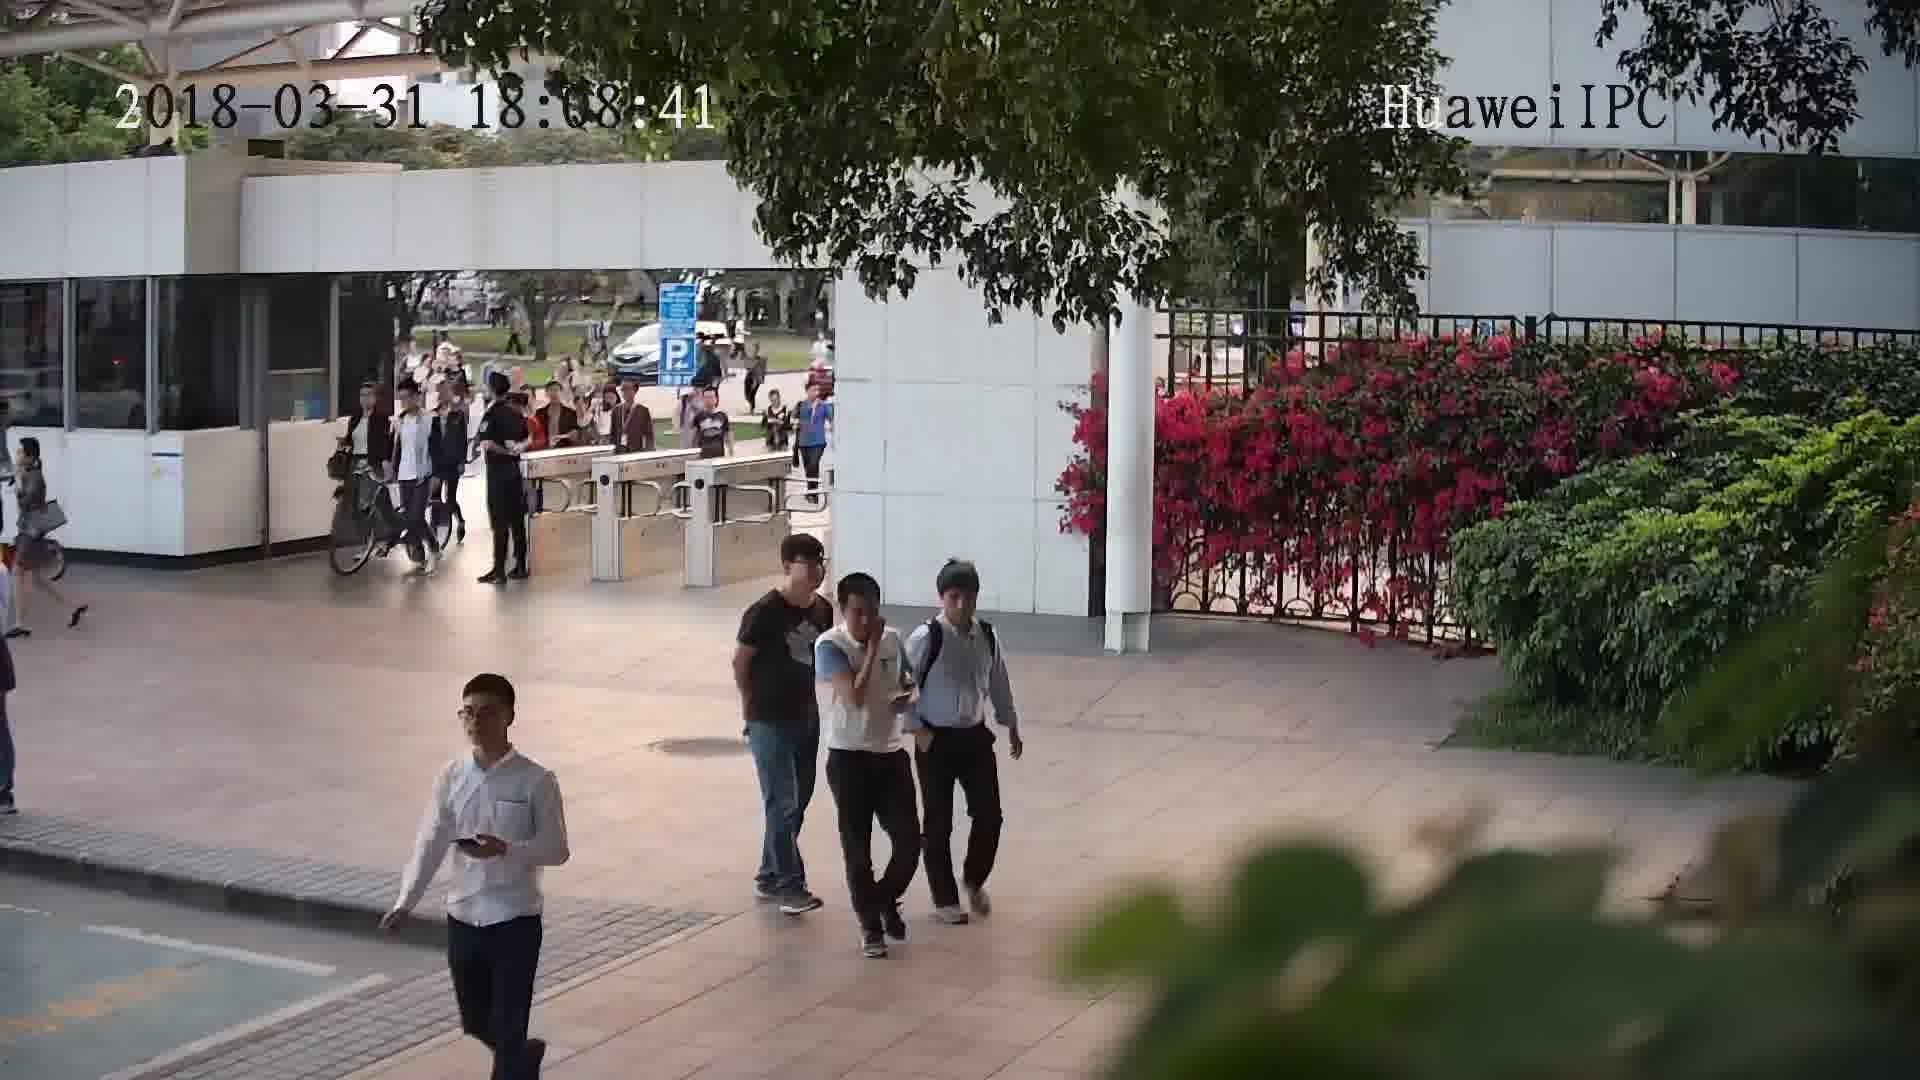face: (454, 688, 514, 748), (840, 594, 884, 644), (788, 552, 829, 599), (938, 585, 981, 628)
person: (436, 670, 554, 798), (743, 530, 835, 625), (815, 568, 907, 662), (911, 560, 1000, 652), (479, 369, 527, 429), (342, 377, 391, 433), (426, 371, 470, 431), (9, 432, 52, 488), (386, 377, 429, 430), (611, 374, 653, 422), (533, 376, 575, 421), (693, 382, 734, 427), (757, 390, 797, 430), (567, 392, 601, 435), (796, 378, 830, 418)
